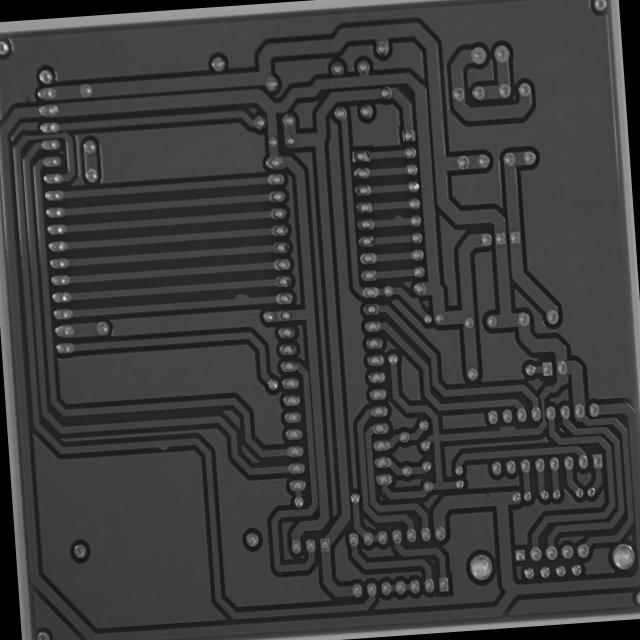spur: (228, 289, 254, 306), (405, 294, 425, 312), (154, 438, 172, 454), (389, 209, 406, 225), (498, 421, 518, 434)
